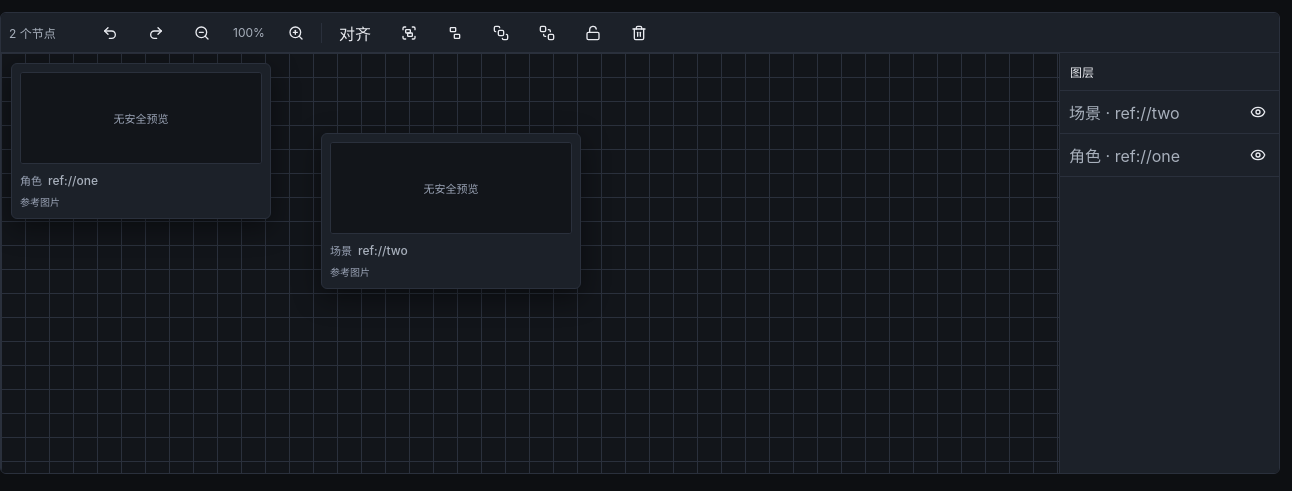
Test: ImageInfiniteCanvas › changes zoom without resizing the canvas shell
Click the button named "放大画布".
click(296, 32)  # box [275,16,317,50]
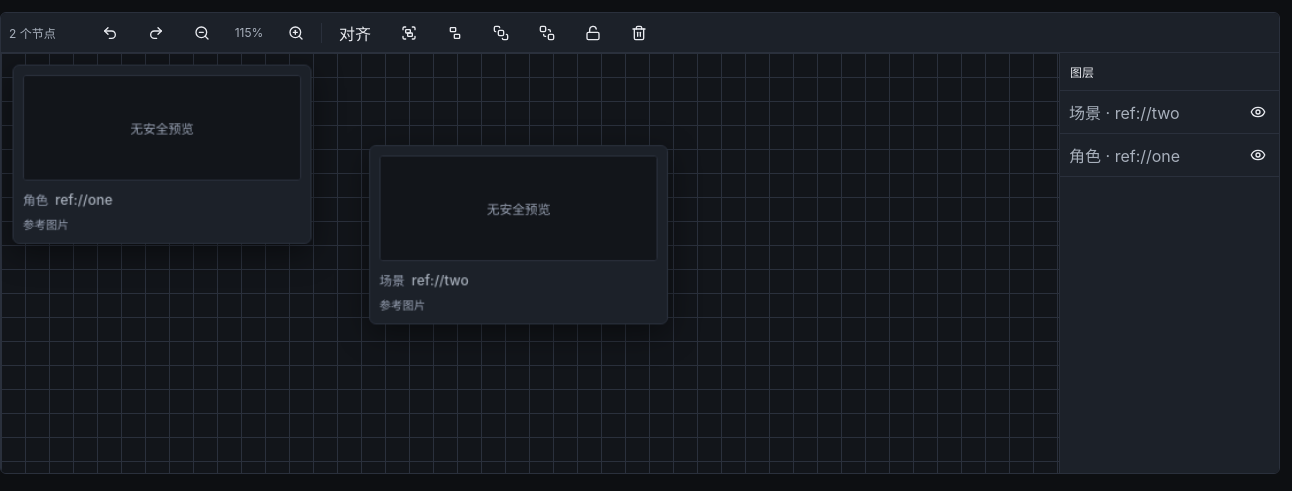
Expected: the text named "画布缩放" reads "115%", [235,25,263,40]
